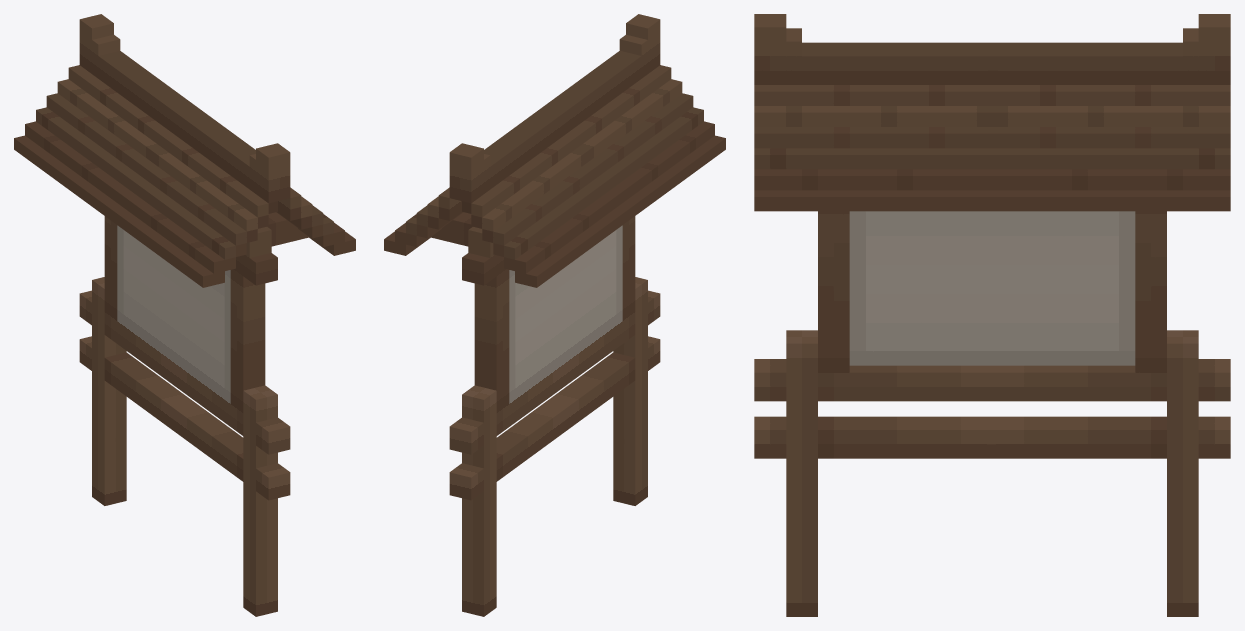
The model's file is 木制公告栏.gltf.
3 views of the same model, side by side, from view 1: azimuth 30°, elevation 25°; view 2: azimuth 150°, elevation 25°; view 3: azimuth 270°, elevation 25° (orthographic). The views are drawn at different scales.
Parts seen in each view (by area): view 1: Object; view 2: Object; view 3: Object.
Boxes of the visible parts, x1=… form: Object: x1=14, y1=14, x2=355, y2=616; Object: x1=384, y1=14, x2=725, y2=616; Object: x1=754, y1=14, x2=1230, y2=616.
Bounding box in the file's own units: 14 × 41 × 30.
1 material, 1 textured.
